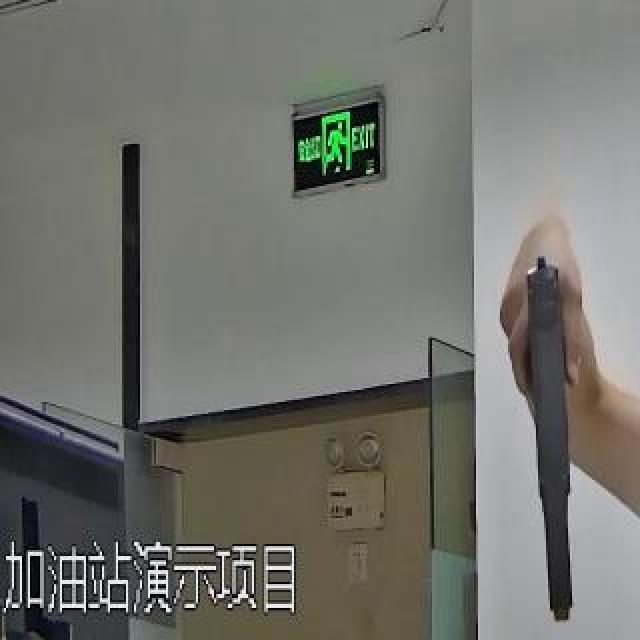Guns: (480, 224, 640, 622)
